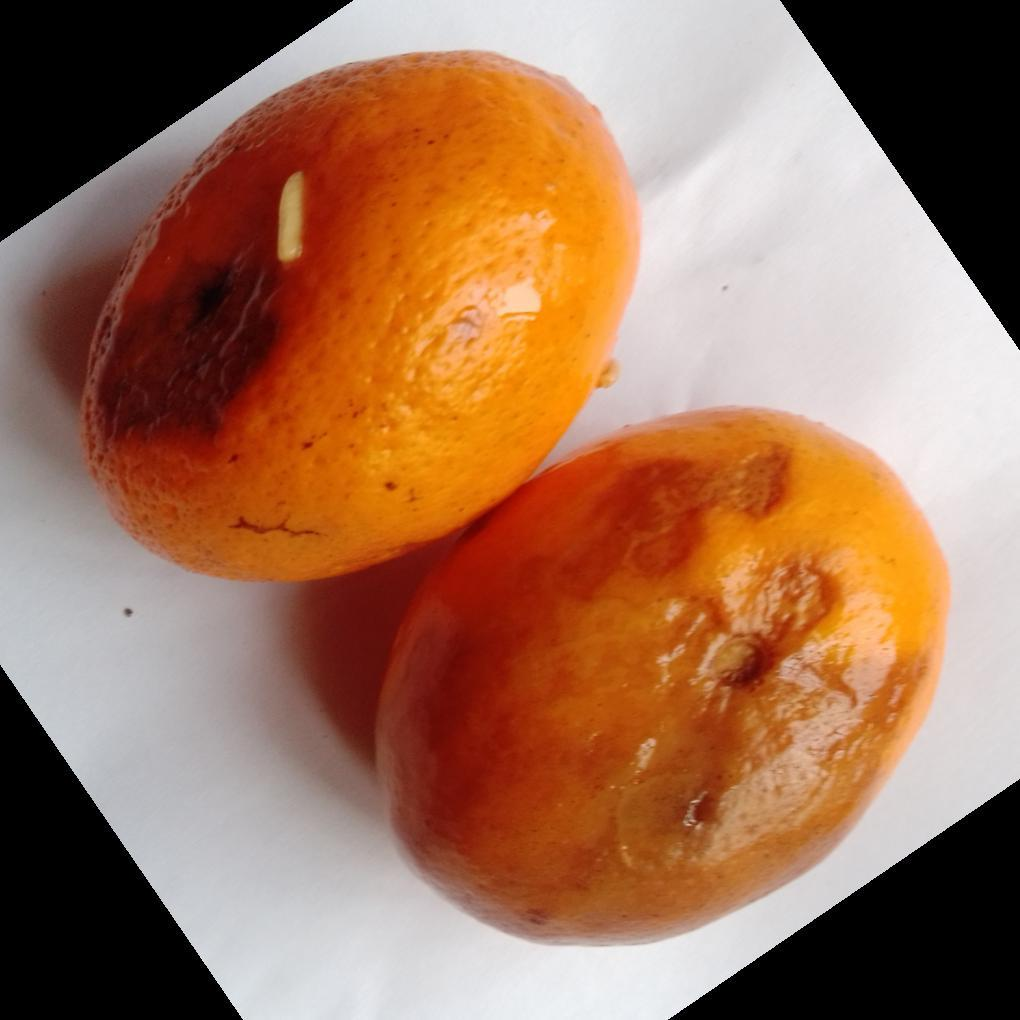FreshOrange: (78, 49, 952, 950)
